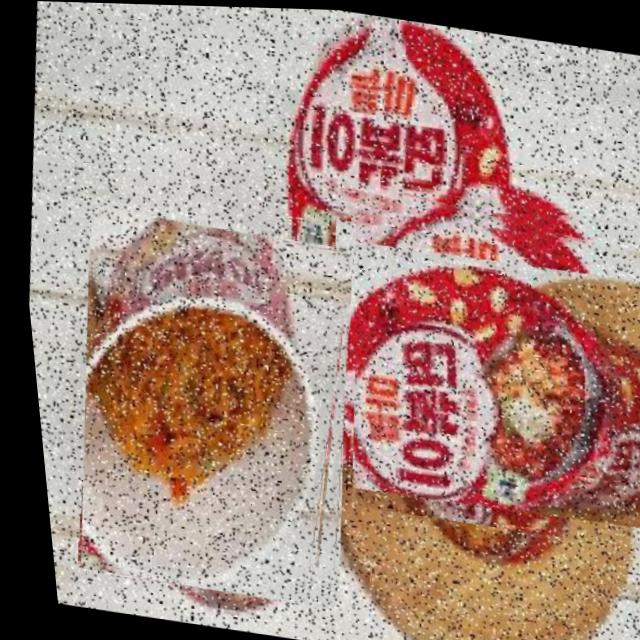Miscellaneous: (42, 203, 374, 608), (316, 177, 640, 549)
